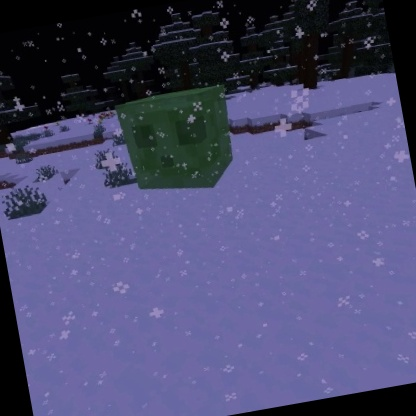slime: (111, 78, 246, 206)
